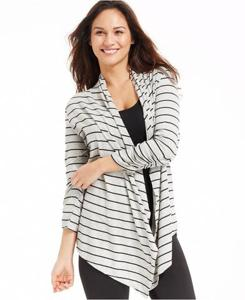S_cardigan sweater: (57, 79, 198, 261)
